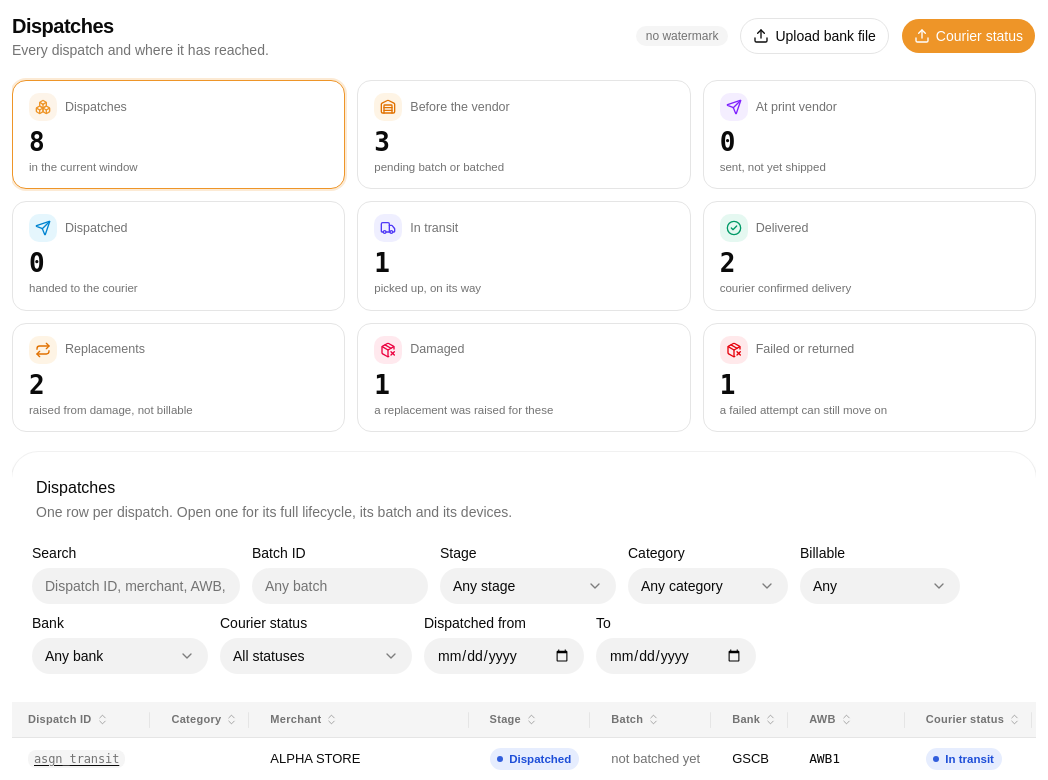
The dispatch list: tiles, toolbar and links › a tile narrows the grid to its own slice, and clicking it again clears it
Expected: the text "ALPHA STORE" is shown, [270,750,360,769]
Click the button "Delivered 2 courier confirmed delivery" at (782, 228), box [703,201,1036,311]
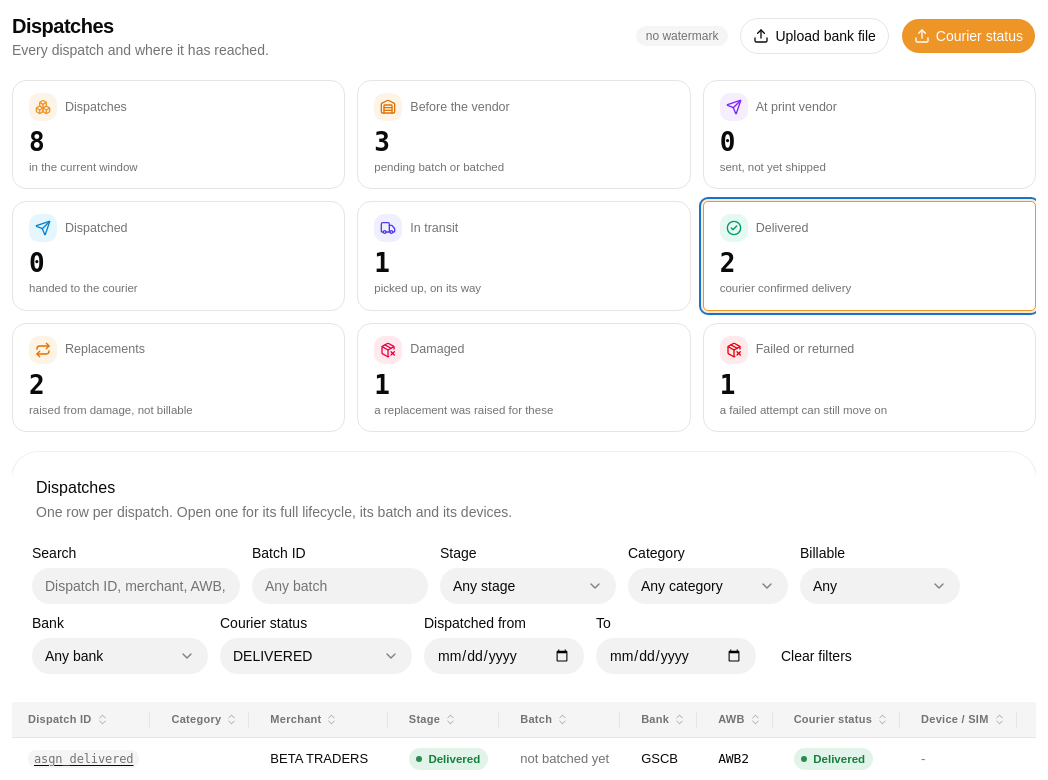
Expected: the text "BETA TRADERS" is shown, [270,750,368,769]
Expected: the text "ALPHA STORE" is gone
Click the button "Delivered 2 courier confirmed delivery" at (782, 228), box [703,201,1036,311]
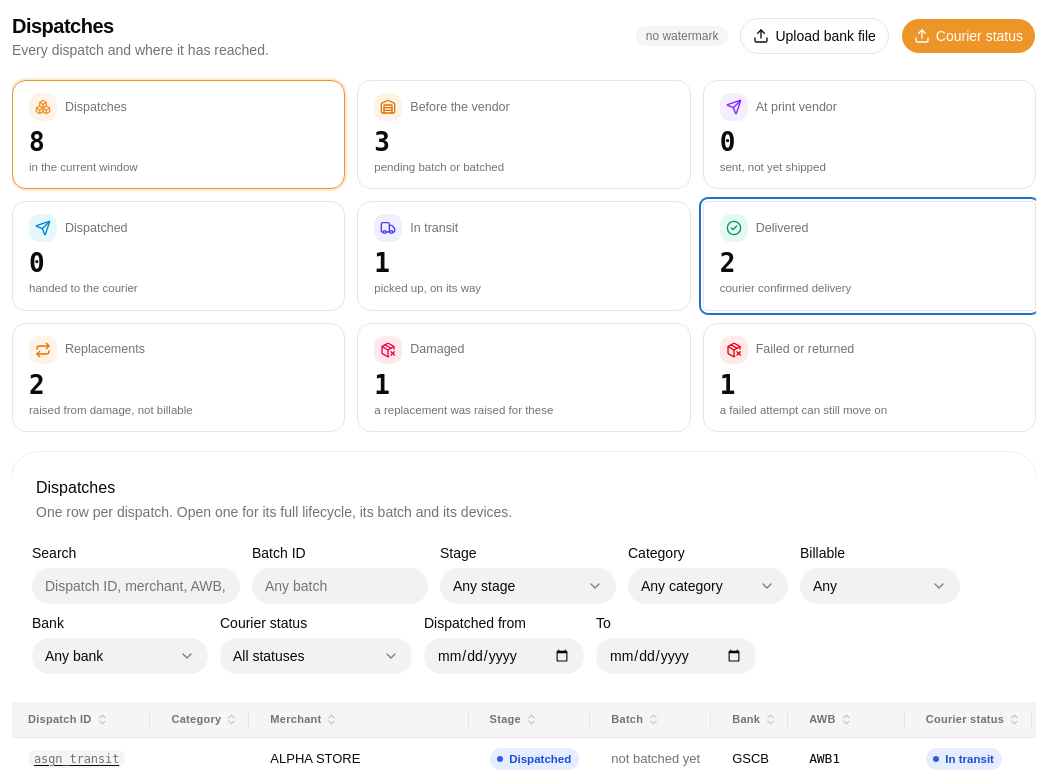
Expected: the text "ALPHA STORE" is shown, [270,750,360,769]
